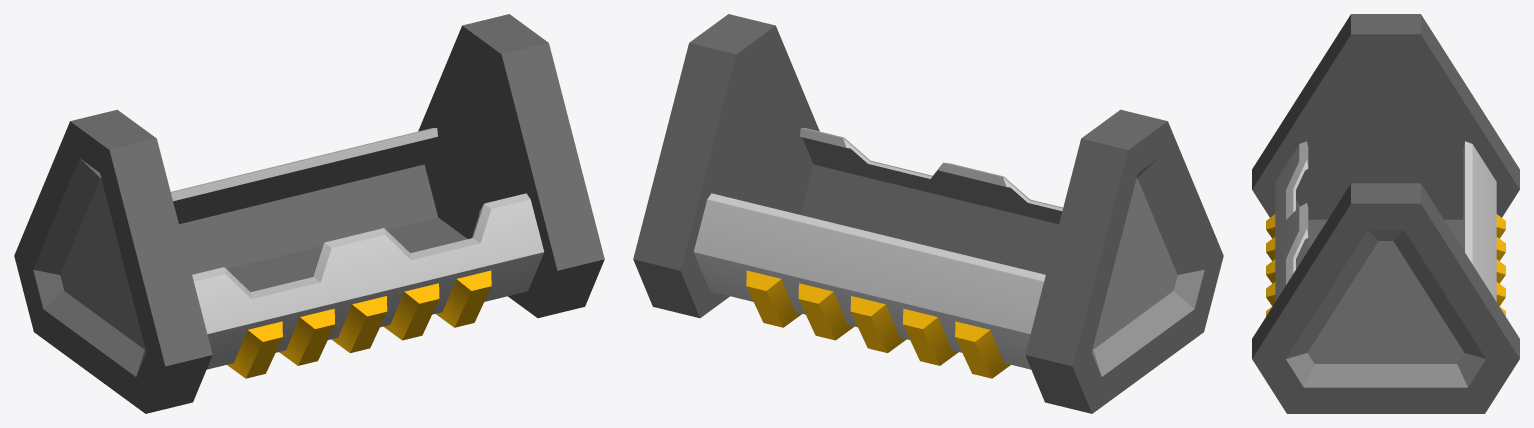
The model's file is Crate_007.fbx.
The picture shows the model from 3 angles, left to right: view 1: azimuth 30°, elevation 25°; view 2: azimuth 150°, elevation 25°; view 3: azimuth 270°, elevation 25°; orthographic projection. The views are drawn at different scales.
Visible parts, largest first — view 1: Crate_007; view 2: Crate_007; view 3: Crate_007.
Boxes of the visible parts, x1,y1,x2,y2 form: Crate_007: (14,14,604,413); Crate_007: (633,14,1223,413); Crate_007: (1252,14,1519,413).
Size of the model in its own units: 101 by 60.38 by 52.29.
